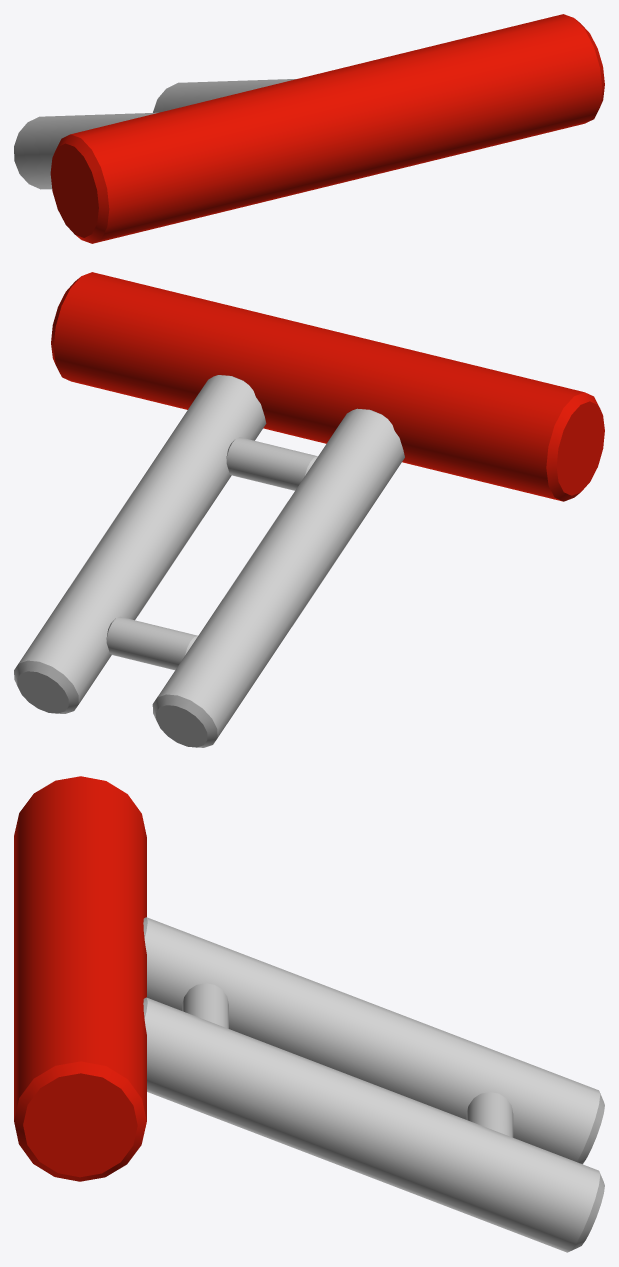
File: Switch Handle.001.fbx
3 views of the same model, one above another, from view 1: azimuth 30°, elevation 25°; view 2: azimuth 150°, elevation 25°; view 3: azimuth 270°, elevation 25° (orthographic). The views are drawn at different scales.
Visible parts, largest first — view 1: Switch Handle.001; view 2: Switch Handle.001; view 3: Switch Handle.001.
Part boxes in pixels (x1=…): Switch Handle.001: x1=14, y1=14, x2=604, y2=243; Switch Handle.001: x1=14, y1=272, x2=604, y2=747; Switch Handle.001: x1=14, y1=776, x2=604, y2=1252.
Bounding box in the file's own units: 77.82 × 35.88 × 66.41.
